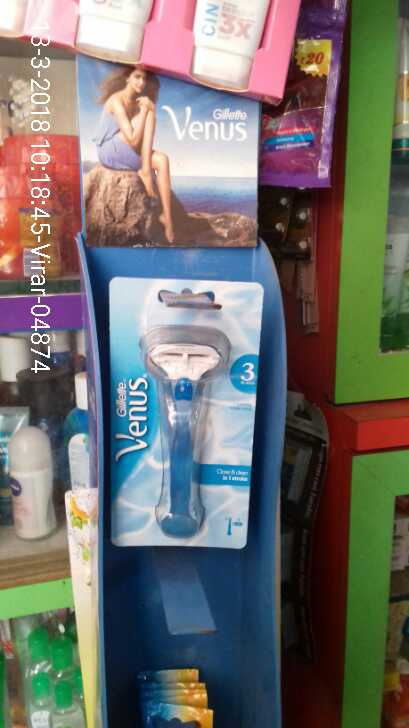venus: (104, 272, 253, 555)
